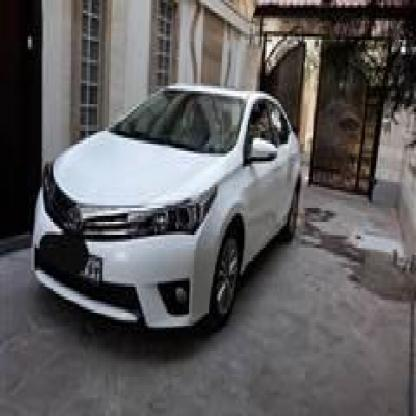Car: (26, 81, 314, 364)
